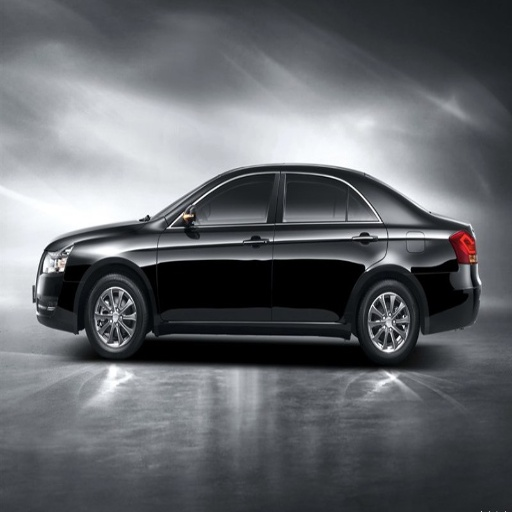back_left_door: (273, 169, 386, 321)
front_left_door: (157, 170, 282, 321)
